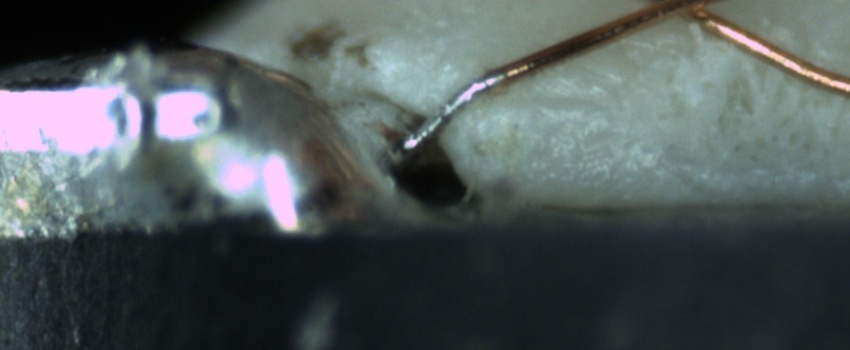CL: (643, 1, 739, 30)
DL: (490, 82, 597, 132)
TS: (403, 76, 498, 157)
TTCW: (392, 40, 542, 150)
